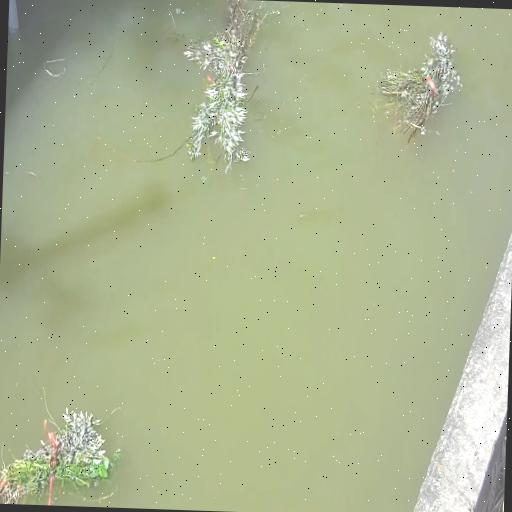twig: (182, 0, 273, 175), (0, 389, 124, 503)
